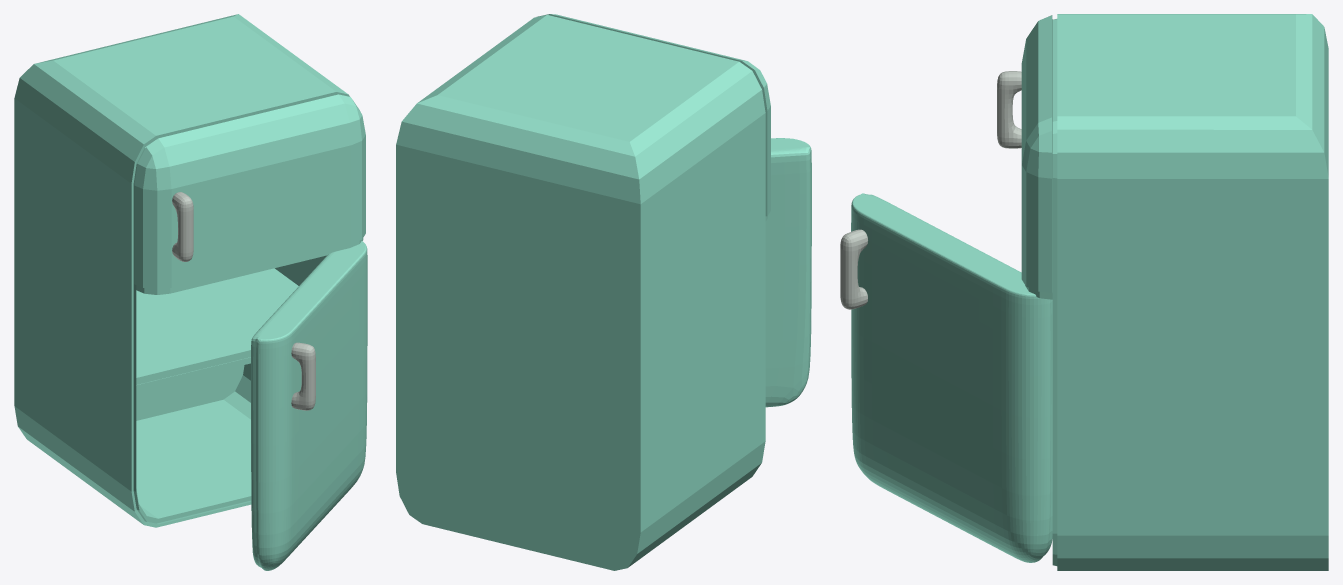
Rendered from Refrigerator.fbx.
3 renders of one model, left to right at view 1: azimuth 30°, elevation 25°; view 2: azimuth 150°, elevation 25°; view 3: azimuth 270°, elevation 25°, orthographic. The views are drawn at different scales.
Visible parts, largest first — view 1: 냉장고.001, 냉장고.002; view 2: 냉장고.001, 냉장고.002; view 3: 냉장고.001, 냉장고.002.
Boxes of the visible parts, x1=… form: 냉장고.001: x1=14, y1=14, x2=365, y2=527; 냉장고.002: x1=251, y1=241, x2=367, y2=570; 냉장고.001: x1=396, y1=14, x2=770, y2=570; 냉장고.002: x1=765, y1=138, x2=811, y2=407; 냉장고.001: x1=997, y1=14, x2=1328, y2=570; 냉장고.002: x1=840, y1=193, x2=1052, y2=562.
Size of the model in its own units: 304 by 497 by 485.
